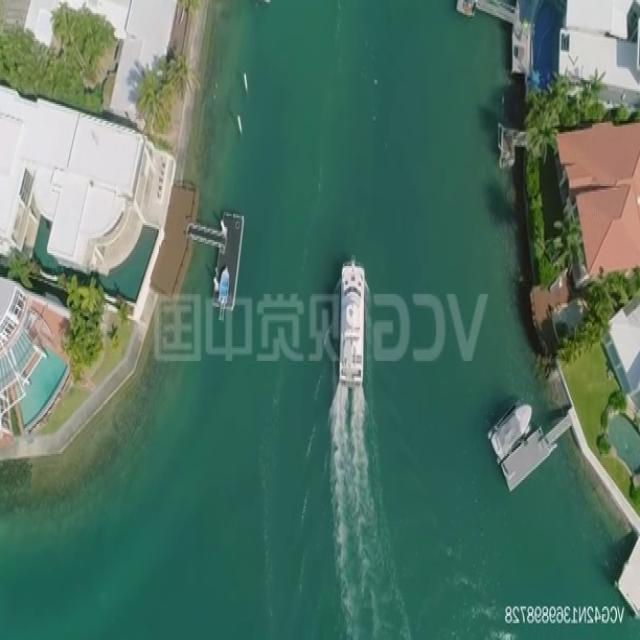passenger ship: (328, 243, 370, 391)
